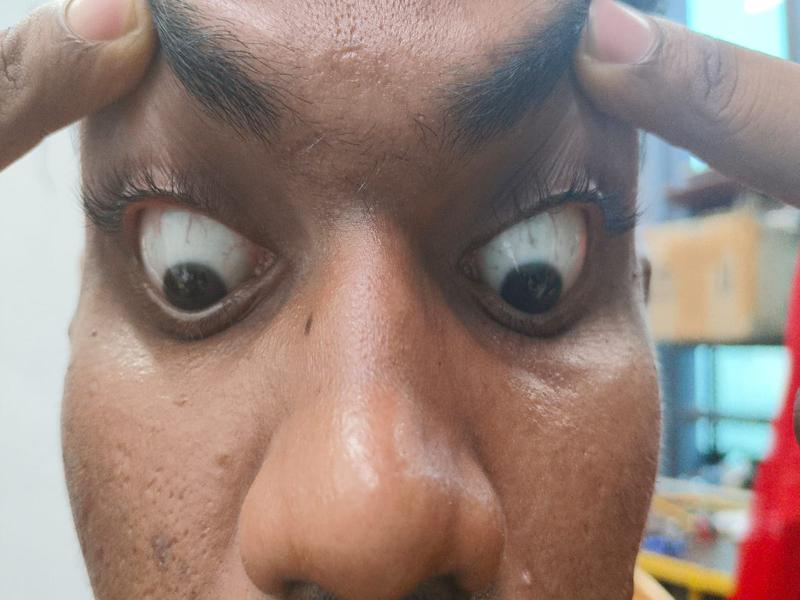EYE DOWN: (124, 207, 261, 311), (481, 214, 591, 316)
